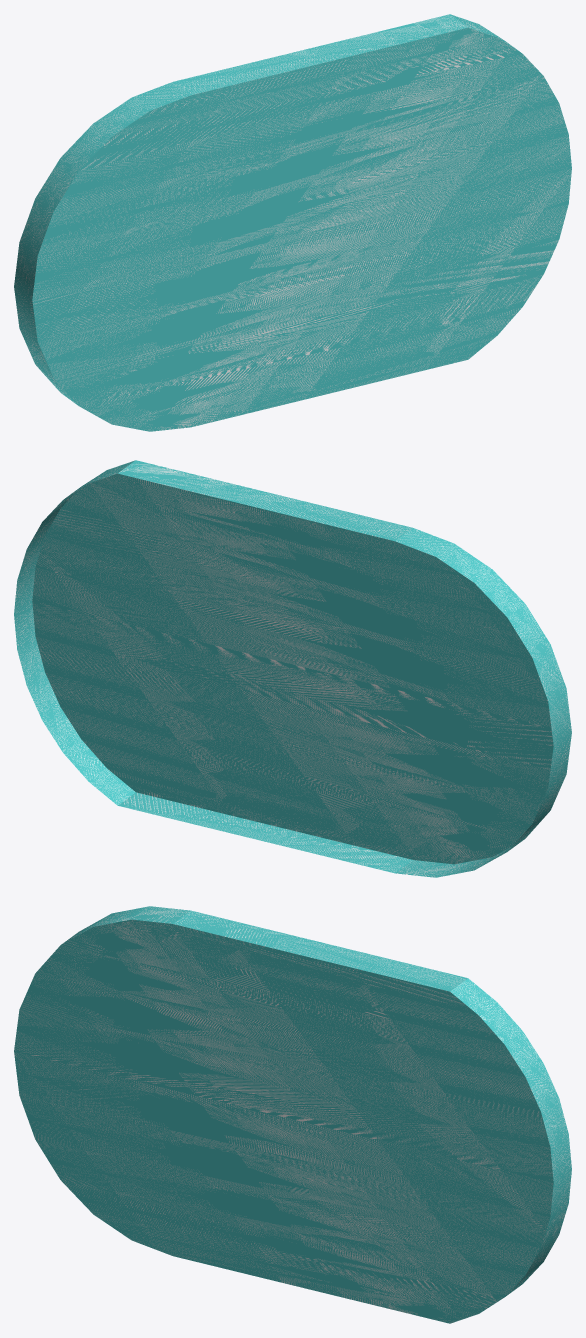
Rendered from original-13.obj.
The picture shows the model from 3 angles, top to bottom: view 1: azimuth 30°, elevation 25°; view 2: azimuth 150°, elevation 25°; view 3: azimuth 330°, elevation 25°; orthographic projection.
Parts seen in each view (by area): view 1: #ID66; view 2: #ID66; view 3: #ID66.
Boxes of the visible parts, x1,y1,x2,y2 form: #ID66: [14, 14, 571, 431]; #ID66: [14, 460, 571, 877]; #ID66: [14, 906, 571, 1323].
Bounding box in the file's own units: 0.0504 × 0.0296 × 0.00296.
